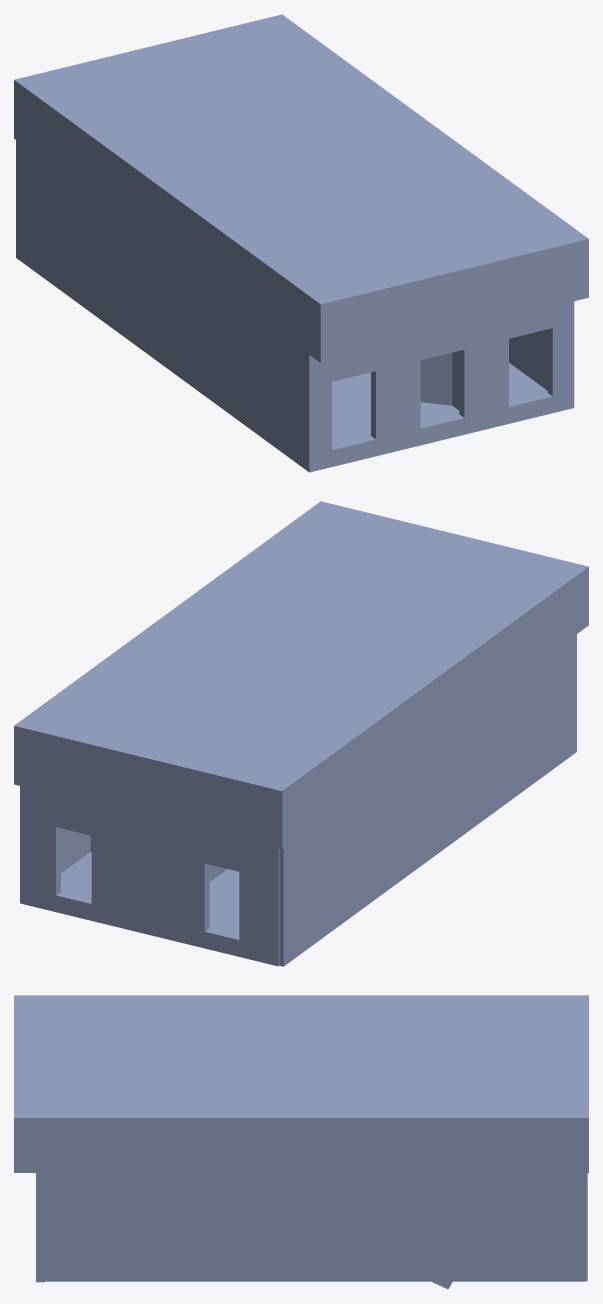
Rendered from HouseA_TopFloor_collision.fbx.
The picture shows the model from 3 angles, top to bottom: view 1: azimuth 30°, elevation 25°; view 2: azimuth 150°, elevation 25°; view 3: azimuth 270°, elevation 25°; orthographic projection. The views are drawn at different scales.
Parts seen in each view (by area): view 1: HouseA_TopFloor_collision; view 2: HouseA_TopFloor_collision; view 3: HouseA_TopFloor_collision.
Part boxes in pixels (x1,y1,x2,y2): HouseA_TopFloor_collision: (14,14,588,472); HouseA_TopFloor_collision: (14,501,588,966); HouseA_TopFloor_collision: (14,995,588,1289).
Size of the model in its own units: 970 by 641 by 1922.
